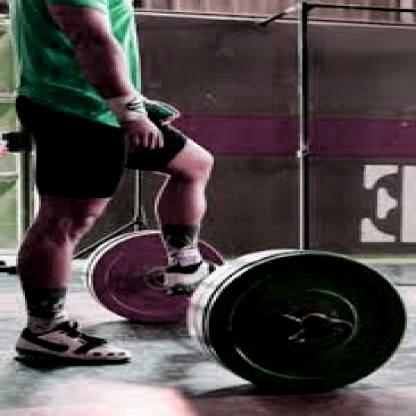Barbell: (316, 313, 359, 347)
